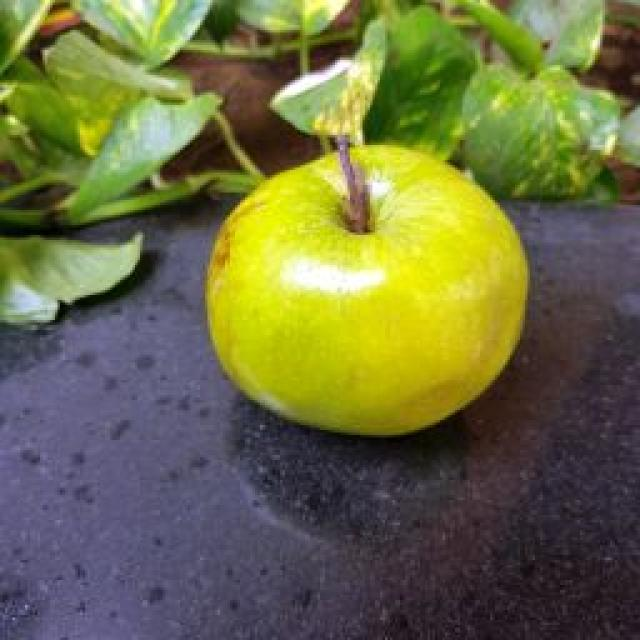Good_Apple: (206, 145, 529, 436)
